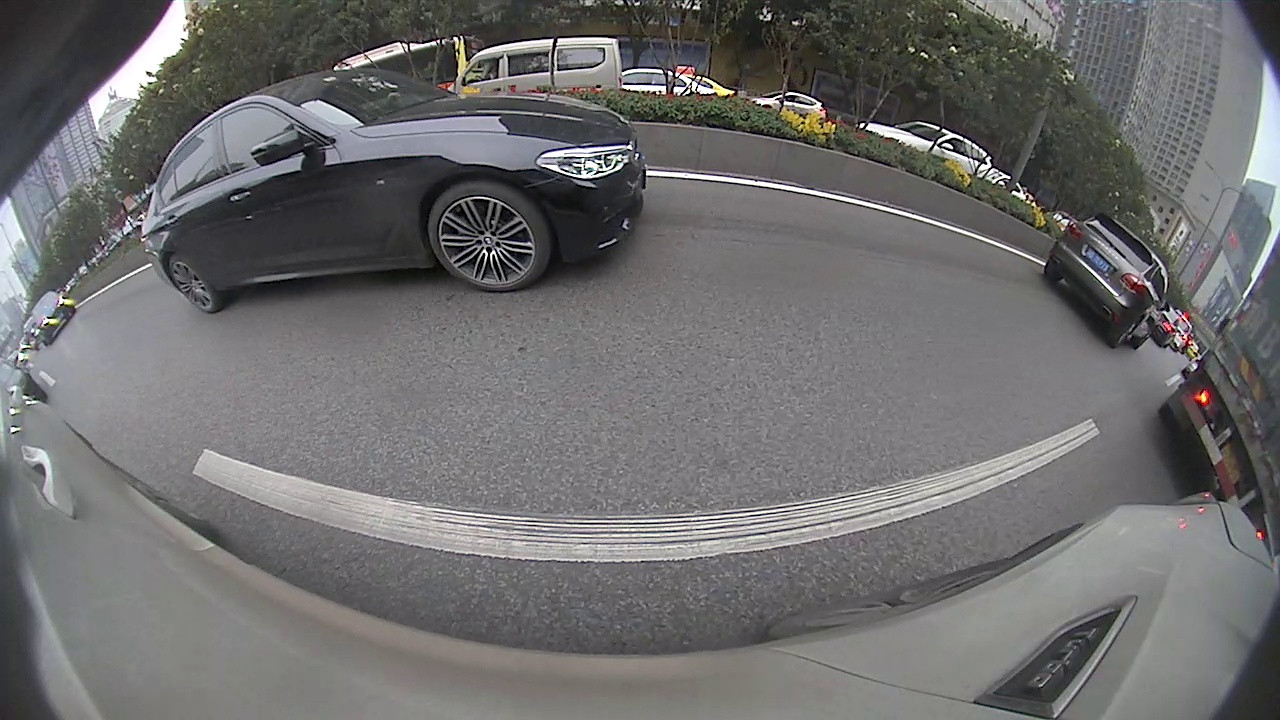car: (1, 252, 268, 490), (195, 189, 368, 288), (658, 143, 754, 210), (475, 157, 557, 211)
front: (158, 288, 246, 396), (339, 218, 362, 246)
person: (1045, 146, 1076, 212)
rear: (248, 247, 279, 282), (667, 179, 676, 204), (531, 185, 539, 203)
rider: (954, 178, 1075, 308)
